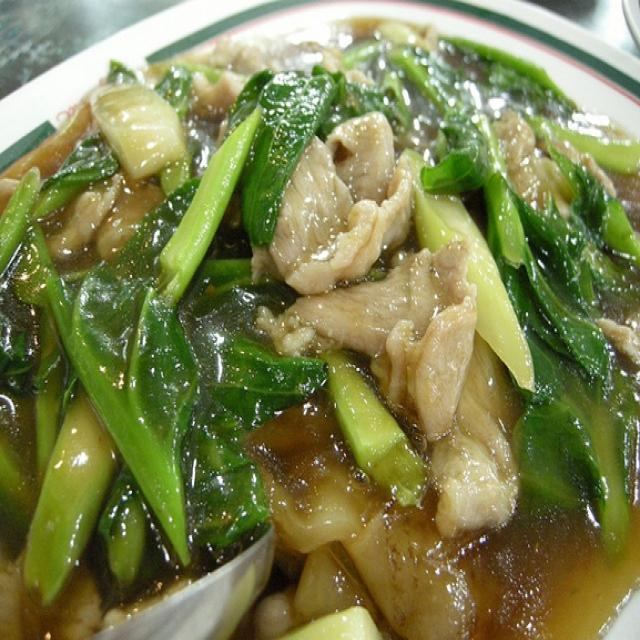面条主食: (23, 31, 608, 615)
